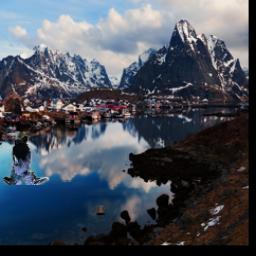Crow: (3, 132, 50, 186)
